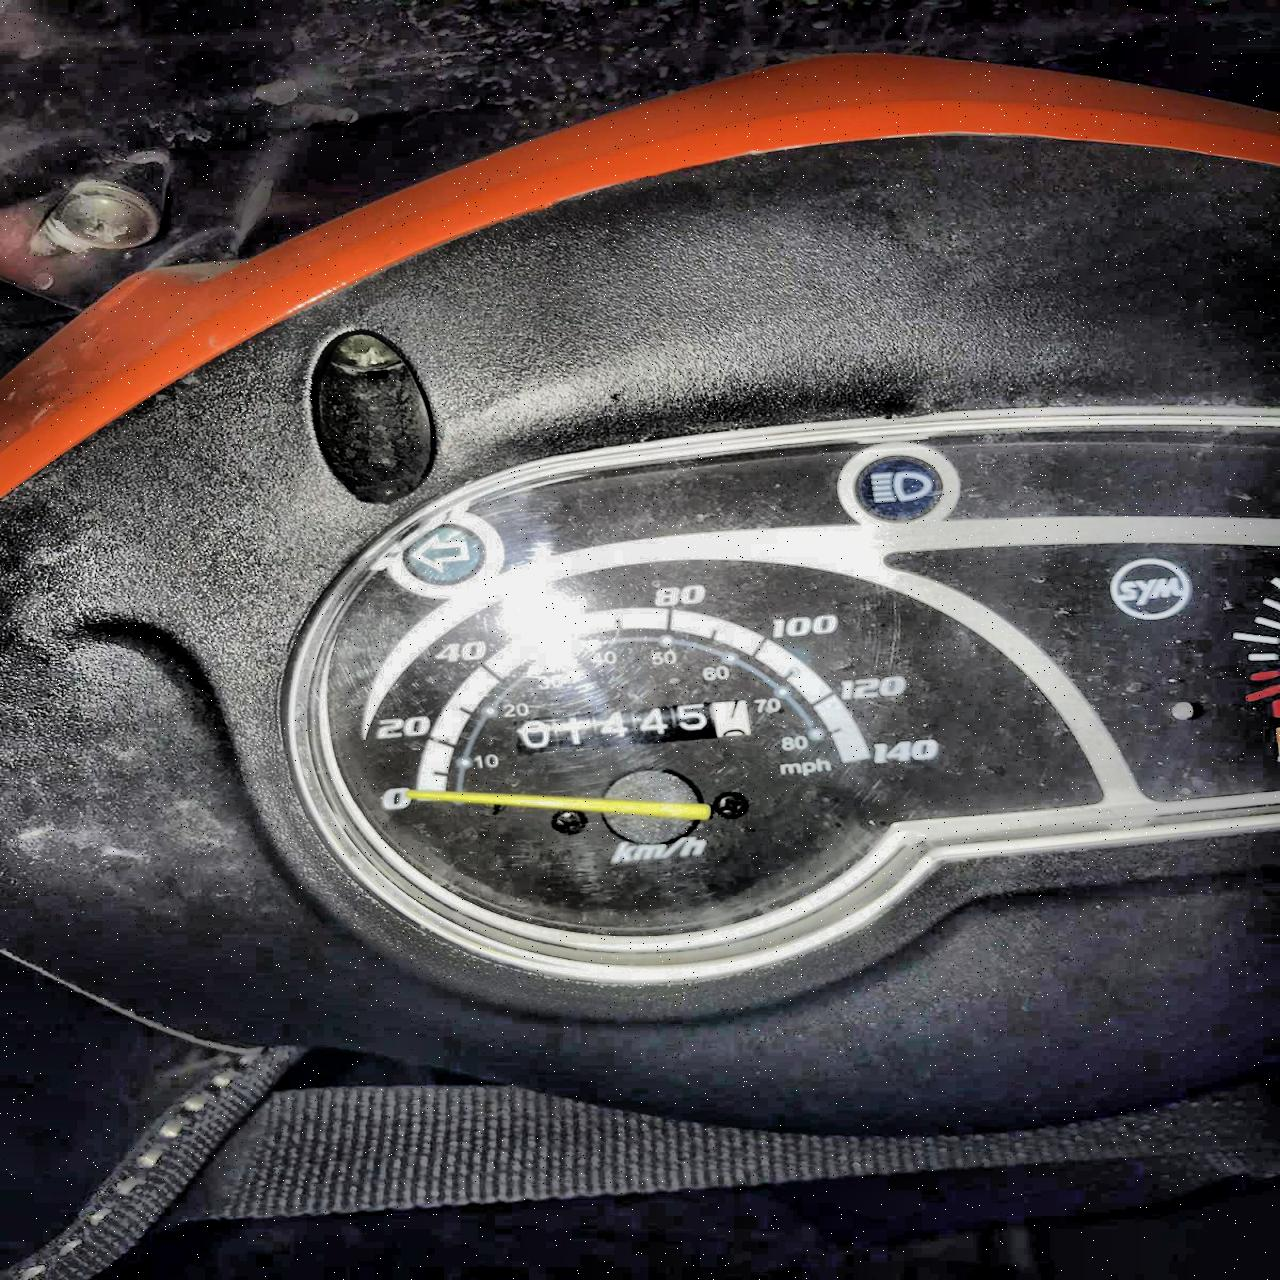0: (518, 720, 551, 747), (516, 701, 529, 715)
1: (563, 712, 588, 753)
4: (639, 706, 669, 736), (601, 708, 628, 738)
5: (674, 701, 707, 733)
7: (716, 696, 744, 722)
odometer: (511, 696, 753, 757)
